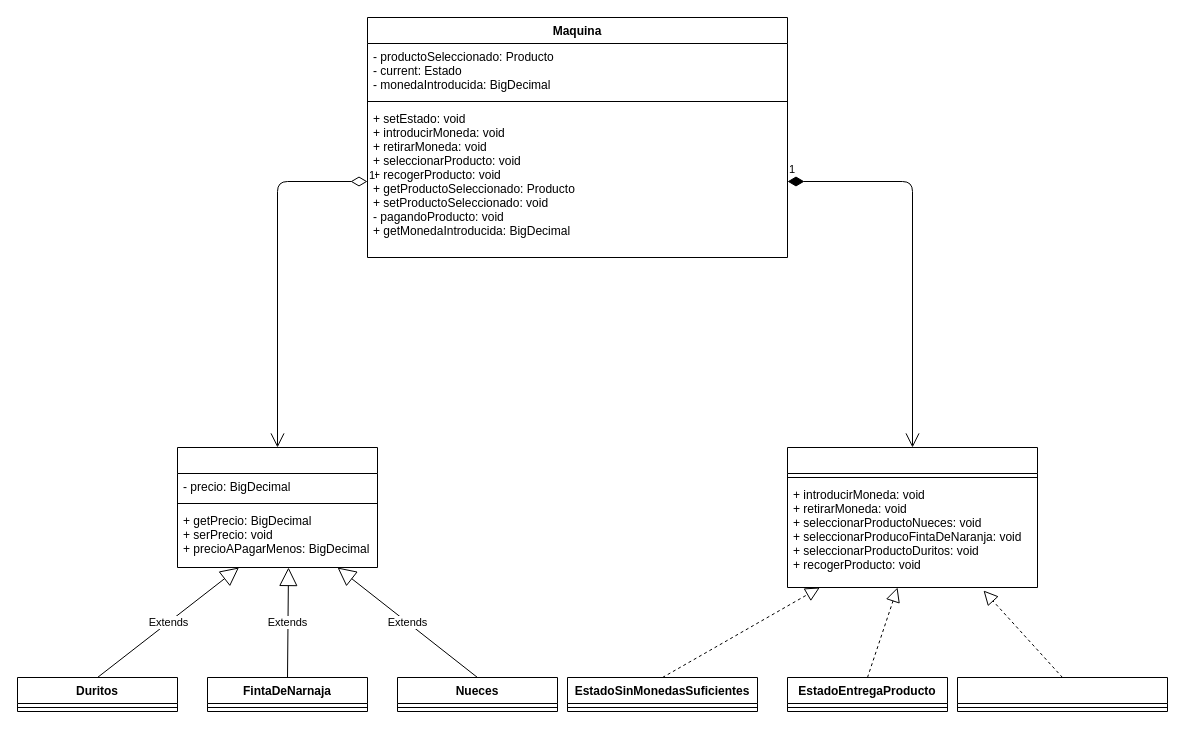
Image size: 1185x729. Some labels were removed from this diagram. The shapes that lost their labels are listed below. From the top down, each one's box as (x1, y1, x2, y2) in pixels, then its label:
(176, 446, 378, 568): Producto
(786, 446, 1038, 588): Estado (Interfaz)
(956, 676, 1168, 712): EstadoProductoNoSeleccionado
